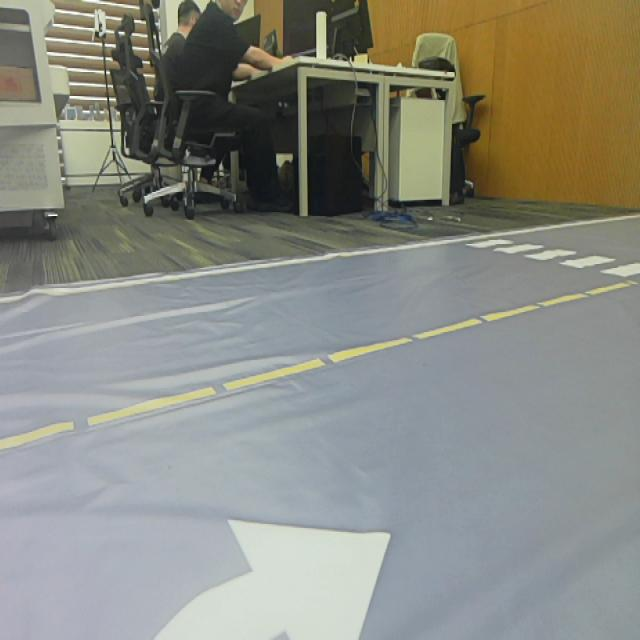left_lane: (0, 278, 640, 454)
